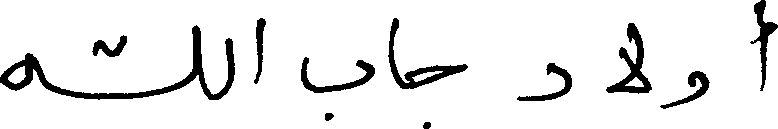أ: (750, 0, 775, 91)
ا: (383, 13, 410, 97), (253, 15, 266, 84)
ب: (299, 55, 373, 122)
ج: (404, 51, 466, 127)
د: (516, 61, 570, 101)
ل: (147, 22, 202, 99), (224, 36, 232, 95)
لا: (606, 20, 651, 93)
ه: (0, 51, 34, 91)
و: (661, 68, 707, 108)
